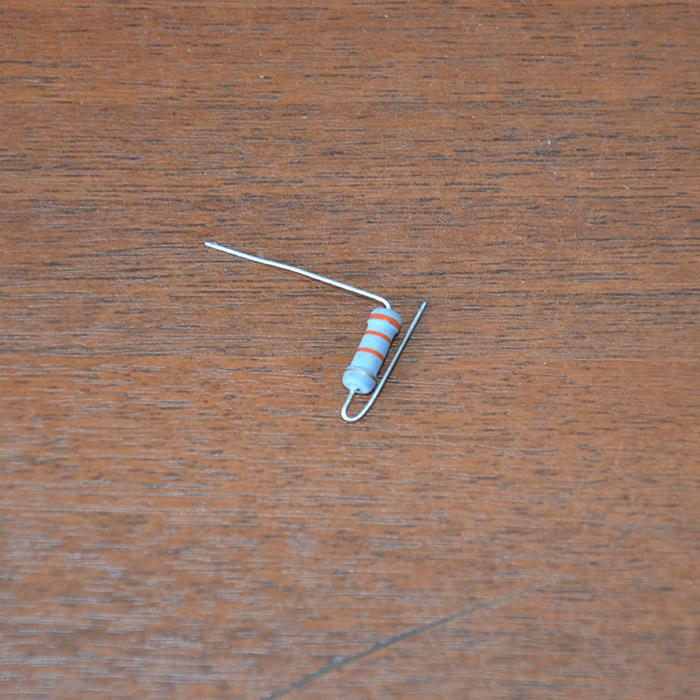resistor: (343, 307, 403, 394)
